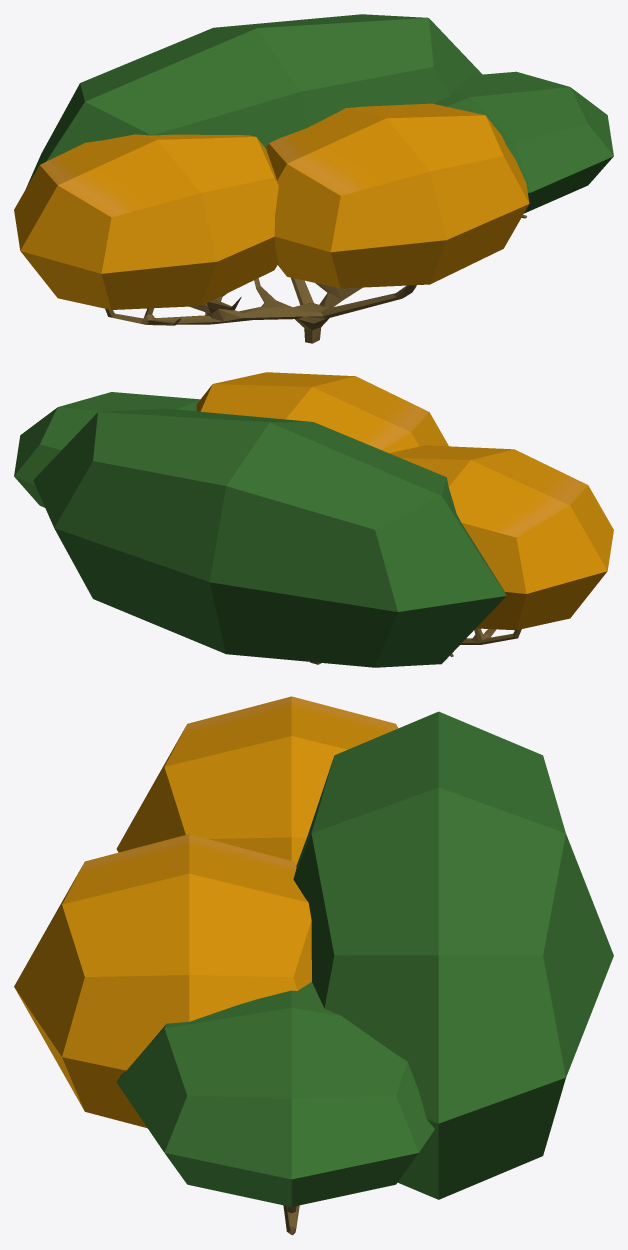
Rendered from Arbusto.fbx.
The picture shows the model from 3 angles, top to bottom: view 1: azimuth 30°, elevation 25°; view 2: azimuth 150°, elevation 25°; view 3: azimuth 270°, elevation 25°; orthographic projection. The views are drawn at different scales.
Visible parts, largest first — view 1: arbusto; view 2: arbusto; view 3: arbusto.
Boxes of the visible parts, x1,y1,x2,y2 form: arbusto: [14, 14, 613, 343]; arbusto: [14, 372, 613, 667]; arbusto: [14, 696, 613, 1235].
Bounding box in the file's own units: 800 × 362 × 487.
